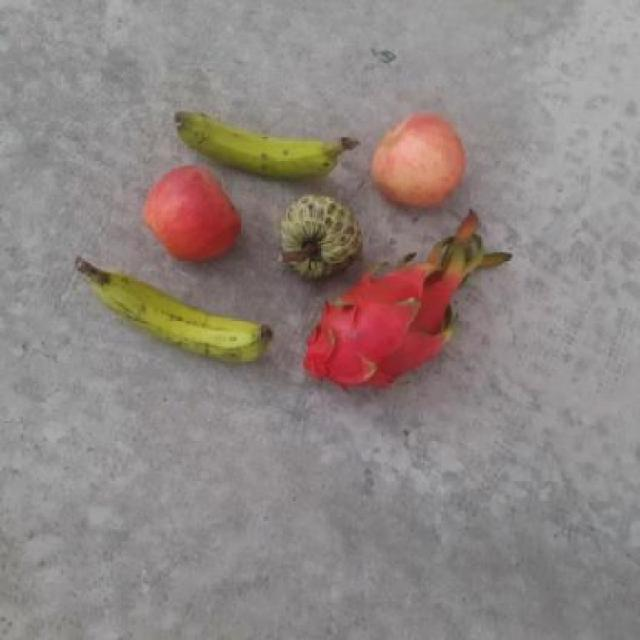apple: (142, 164, 242, 262), (368, 113, 466, 209)
banana: (91, 256, 275, 366), (171, 101, 351, 181)
dragon fruit: (297, 266, 454, 396)
sugar apple: (272, 192, 362, 280)
